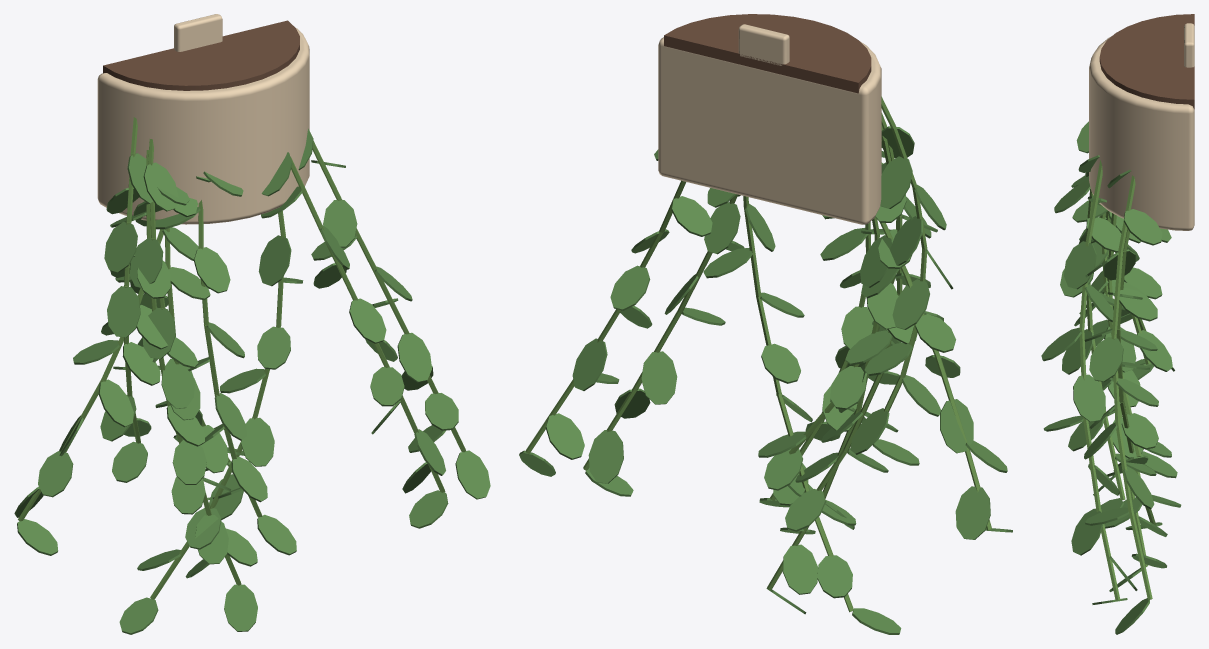
The model's file is wall_planter.glb.
3 views of the same model, side by side, from view 1: azimuth 30°, elevation 25°; view 2: azimuth 150°, elevation 25°; view 3: azimuth 270°, elevation 25° (orthographic). The views are drawn at different scales.
Visible parts, largest first — view 1: wall_planter; view 2: wall_planter; view 3: wall_planter.
Boxes of the visible parts, x1=… form: wall_planter: x1=14, y1=14, x2=490, y2=634; wall_planter: x1=519, y1=14, x2=1012, y2=634; wall_planter: x1=1041, y1=14, x2=1194, y2=634.
Bounding box in the file's own units: 0.5 × 0.6 × 0.15.
